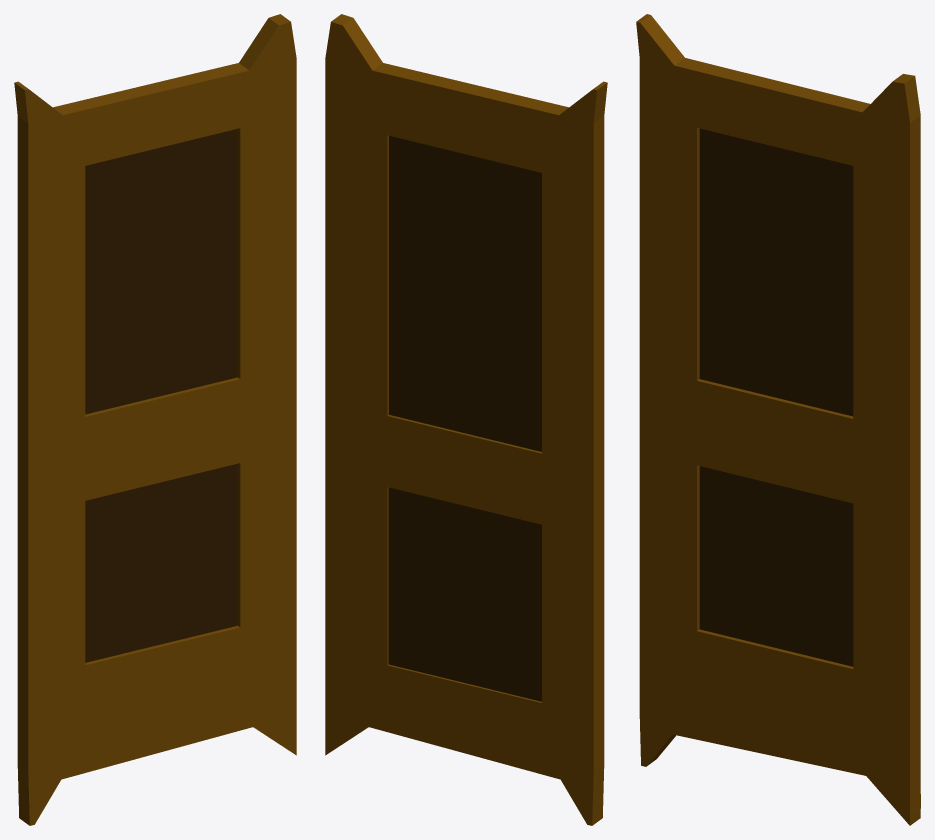
The model's file is Door.fbx.
3 views of the same model, side by side, from view 1: azimuth 30°, elevation 25°; view 2: azimuth 150°, elevation 25°; view 3: azimuth 330°, elevation 25° (orthographic).
Parts seen in each view (by area): view 1: Door; view 2: Door; view 3: Door.
Part boxes in pixels (x1=…): Door: x1=14, y1=14, x2=296, y2=825; Door: x1=325, y1=14, x2=607, y2=825; Door: x1=636, y1=14, x2=920, y2=825.
Bounding box in the file's own units: 4 × 10.42 × 0.2712.
